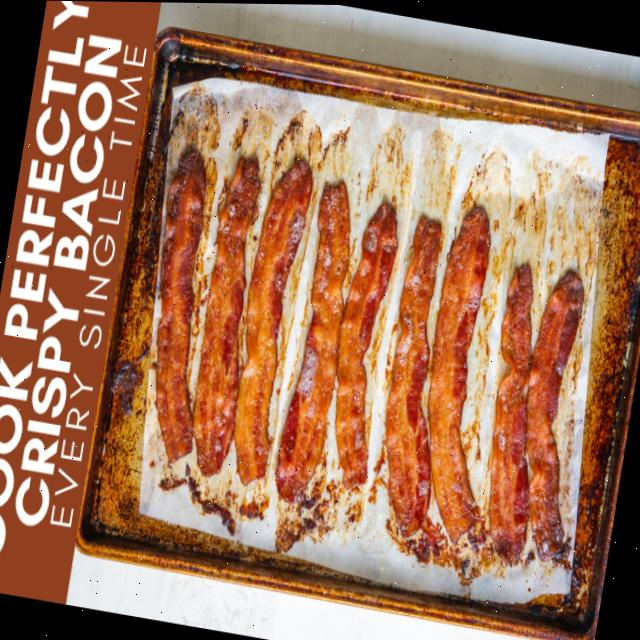Bacon: (234, 160, 312, 483), (275, 180, 351, 500), (192, 156, 260, 475), (427, 205, 491, 540), (385, 213, 442, 535), (335, 200, 398, 488), (525, 268, 584, 566), (155, 147, 206, 461), (488, 261, 533, 561)
